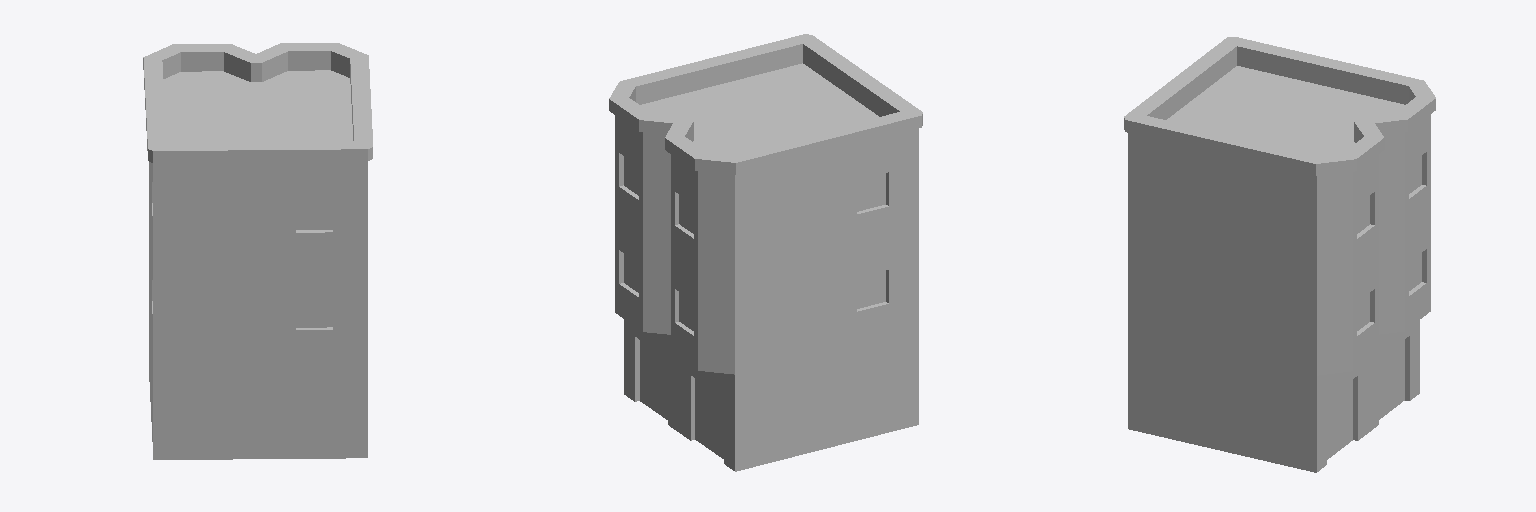
File: variant_46.obj
The picture shows the model from 3 angles: view 1: azimuth 30°, elevation 25°; view 2: azimuth 150°, elevation 25°; view 3: azimuth 270°, elevation 25°; orthographic projection.
Visible parts, largest first — view 1: Building; view 2: Building; view 3: Building.
Part boxes in pixels (x1,y1,x2,y2): Building: (143, 43, 372, 459); Building: (609, 34, 922, 471); Building: (1124, 37, 1435, 472).
Size of the model in its own units: 1.13 by 1.28 by 1.16.